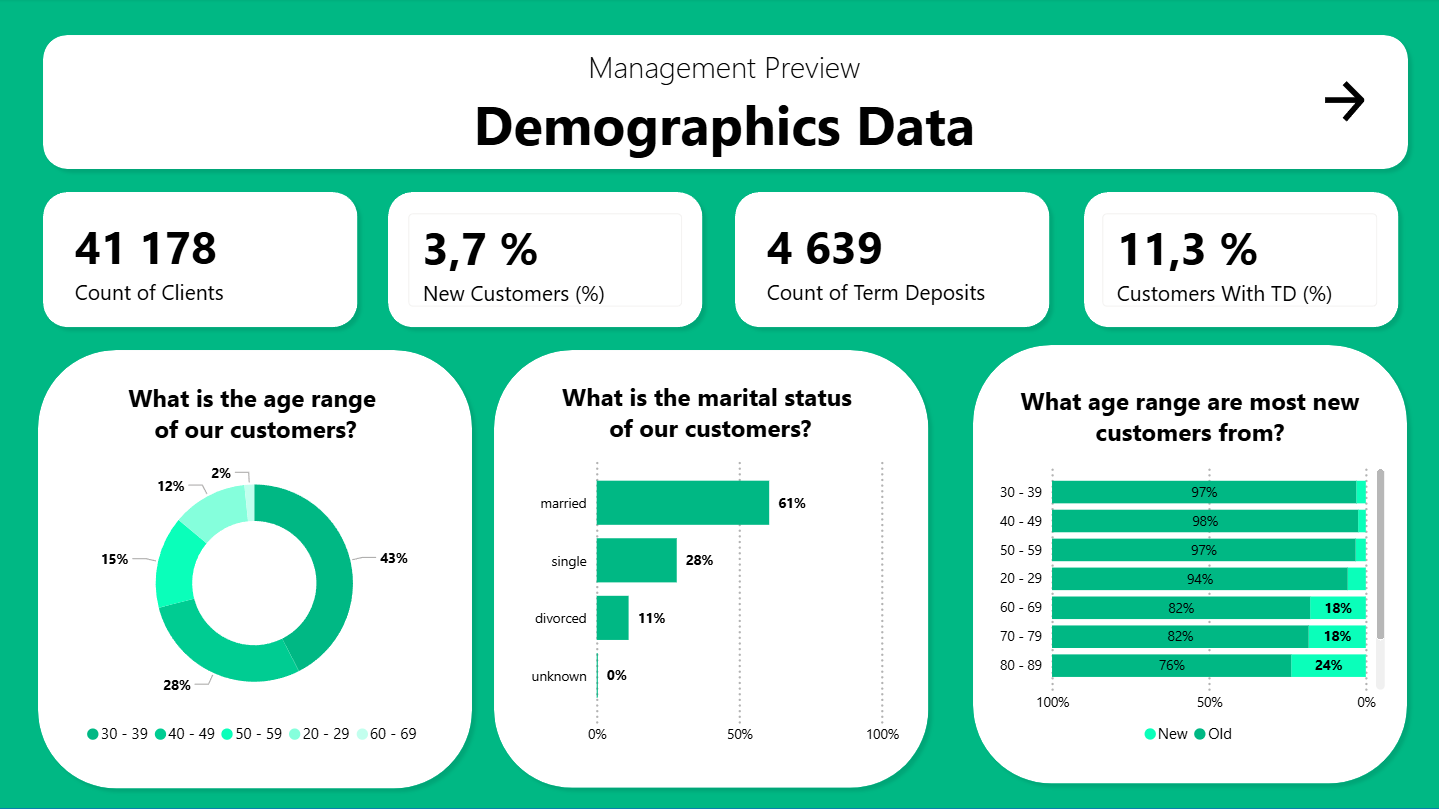

Layout of this report page (visuals, bound fields, positions):
{"tool":"powerbi","page":{"name":"Demographics Data","canvas":[1280,720],"ordinal":0},"visuals":[{"type":"shape","box":[0,0,1280,719.5],"z":0},{"type":"shape","box":[31.6,164.2,294.7,135.8],"z":1000},{"type":"shape","box":[27.8,304.3,400.8,404.7],"z":2000},{"type":"shape","box":[954.7,164.2,294.7,135.8],"z":3000},{"type":"shape","box":[337.9,164.2,294.7,135.8],"z":4000},{"type":"shape","box":[31.6,24.7,1226.3,134.7],"z":5000},{"type":"shape","box":[645.3,164.2,294.7,135.8],"z":6000},{"type":"textbox","box":[39,37,1210,112],"z":7000},{"type":"cardVisual","fields":{"Data":["CountNonNull(bank_report.y)"]},"box":[38.9,173.7,278.9,117.9],"z":8000},{"type":"cardVisual","fields":{"Data":["CountNonNull(bank_report.y)"]},"box":[652.6,173.7,278.9,117.9],"z":9000},{"type":"cardVisual","fields":{"Data":["bank_report.%noTD"]},"box":[962.1,173.7,278.9,117.9],"z":10000},{"type":"cardVisual","fields":{"Data":["bank_report.%new_customer"]},"box":[346.3,173.7,277.9,117.9],"z":11000},{"type":"donutChart","fields":{"Y":["CountNonNull(bank_report.age)"],"Category":["bank_report.age_range"]},"box":[47.4,395.7,360.5,276],"z":12000},{"type":"textbox","box":[66.3,333.9,323.6,72.7],"z":13000},{"type":"shape","box":[856.6,299.6,400.8,404.7],"z":14000},{"type":"shape","box":[431.6,304.2,401.1,404.2],"z":15000},{"type":"barChart","fields":{"Category":["bank_report.marital"],"Y":["CountNonNull(bank_report.y)"]},"box":[462.6,394.9,340.7,276.8],"z":16000},{"type":"textbox","box":[438.9,333.7,385.3,72.6],"z":17000},{"type":"textbox","box":[864.3,337.3,384.7,65.9],"z":18000},{"type":"hundredPercentStackedBarChart","fields":{"Series":["bank_report.new_customer"],"Y":["CountNonNull(bank_report.y)"],"Category":["bank_report.age_range"]},"box":[879.6,404.4,355.2,267.3],"z":19000},{"type":"actionButton","box":[1170,69.5,46,45],"z":20000}]}

Visuals, with their boxes in screenshot pixels (x1, y1, x2, y2), scaled from the page's 1280x720 canvas onto the 1439x809 screenshot:
shape: <region>0, 0, 1438, 808</region>
shape: <region>36, 184, 367, 337</region>
shape: <region>31, 342, 482, 797</region>
shape: <region>1073, 184, 1405, 337</region>
shape: <region>380, 184, 711, 337</region>
shape: <region>36, 28, 1414, 179</region>
shape: <region>725, 184, 1057, 337</region>
textbox: <region>44, 42, 1404, 167</region>
cardVisual - CountNonNull(bank_report.y): <region>44, 195, 357, 328</region>
cardVisual - CountNonNull(bank_report.y): <region>734, 195, 1047, 328</region>
cardVisual - bank_report.%noTD: <region>1082, 195, 1395, 328</region>
cardVisual - bank_report.%new_customer: <region>389, 195, 702, 328</region>
donutChart - CountNonNull(bank_report.age) x bank_report.age_range: <region>53, 445, 459, 755</region>
textbox: <region>75, 375, 438, 457</region>
shape: <region>963, 337, 1414, 791</region>
shape: <region>485, 342, 936, 796</region>
barChart - bank_report.marital x CountNonNull(bank_report.y): <region>520, 444, 903, 755</region>
textbox: <region>493, 375, 927, 457</region>
textbox: <region>972, 379, 1404, 453</region>
hundredPercentStackedBarChart - bank_report.new_customer x CountNonNull(bank_report.y): <region>989, 454, 1388, 755</region>
actionButton: <region>1315, 78, 1367, 129</region>
